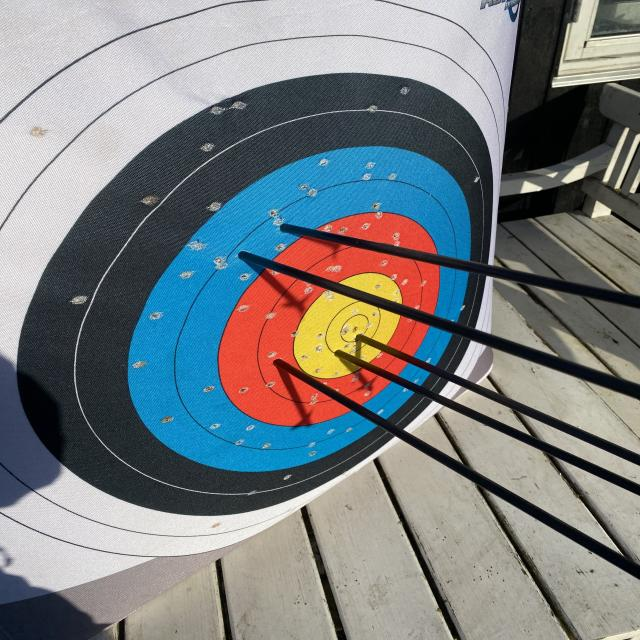Arrow_Blue: (261, 204, 308, 243), (225, 239, 267, 276)
Arrow_Red: (260, 347, 300, 383)
Arrow_Yellow: (347, 322, 390, 353), (316, 339, 360, 366)
